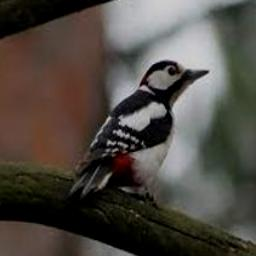Woodpecker: (69, 61, 211, 207)
